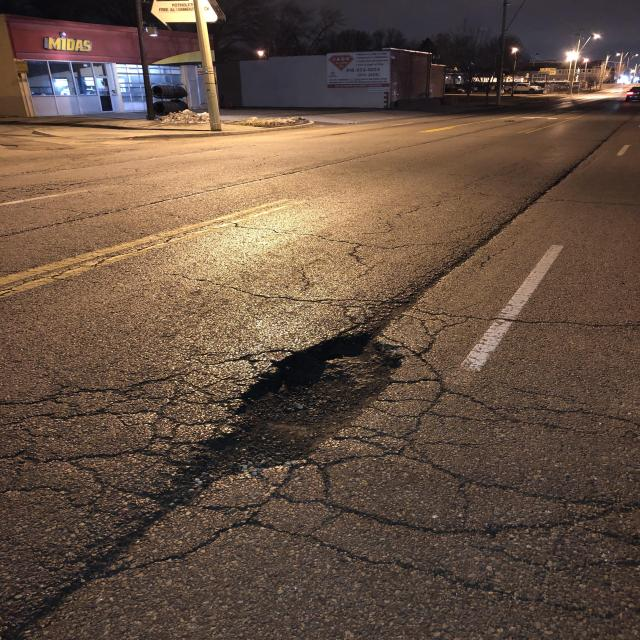Pothole: (190, 319, 403, 499)
